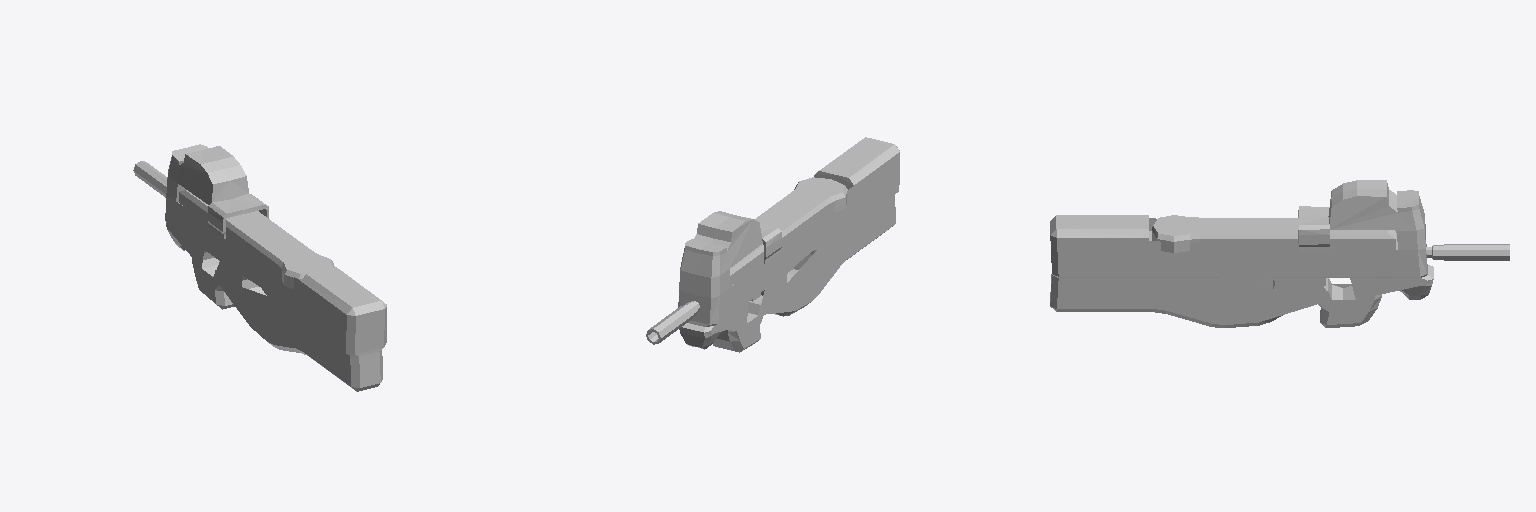
3 views of the same model, side by side, from view 1: azimuth 30°, elevation 25°; view 2: azimuth 150°, elevation 25°; view 3: azimuth 270°, elevation 25° (orthographic).
Visible parts, largest first — view 1: spaceship; view 2: spaceship; view 3: spaceship.
Part boxes in pixels (left/top/right/bottom): spaceship: left=133, top=144, right=386, bottom=391; spaceship: left=646, top=137, right=899, bottom=352; spaceship: left=1050, top=180, right=1509, bottom=327.
Bounding box in the file's own units: 1.37 × 3.6 × 11.08.